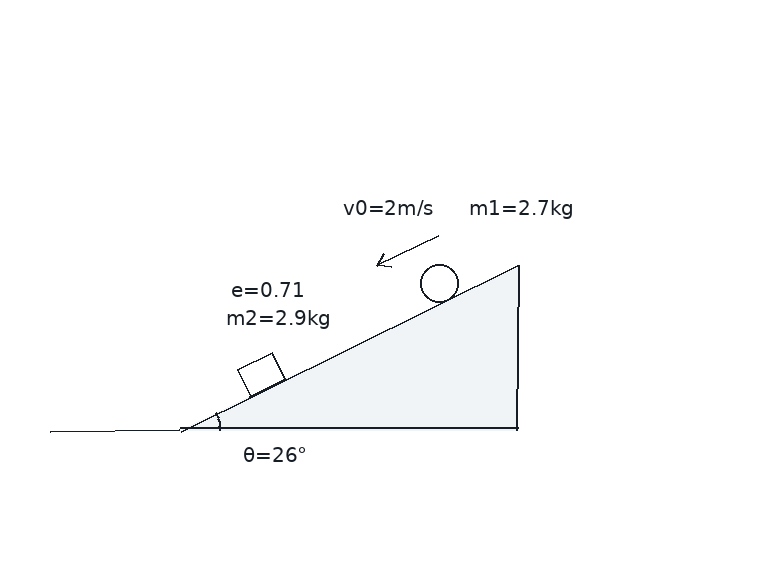ball: (418, 262, 460, 304)
block: (235, 351, 287, 398)
ramp: (178, 264, 519, 432)
